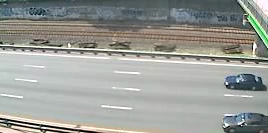car: (219, 109, 268, 132), (222, 70, 266, 94)
